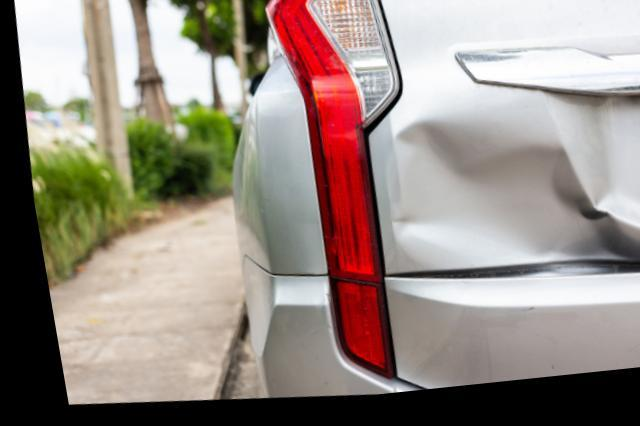dent: (380, 127, 618, 277)
